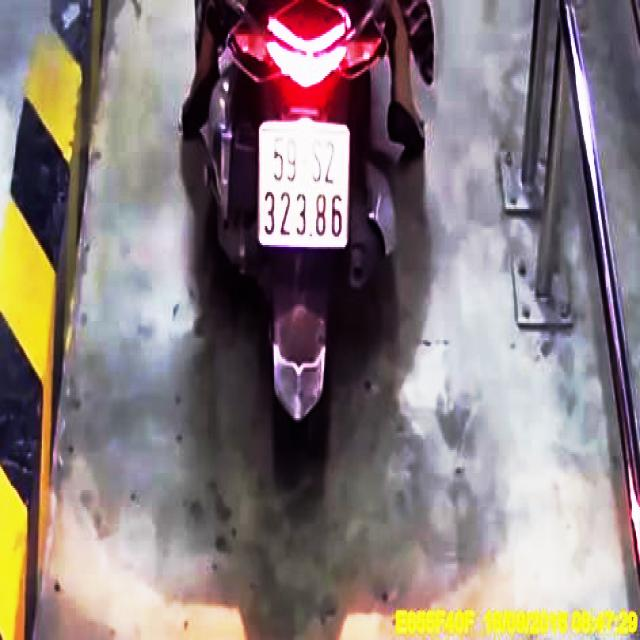license_plate: (259, 122, 351, 248)
